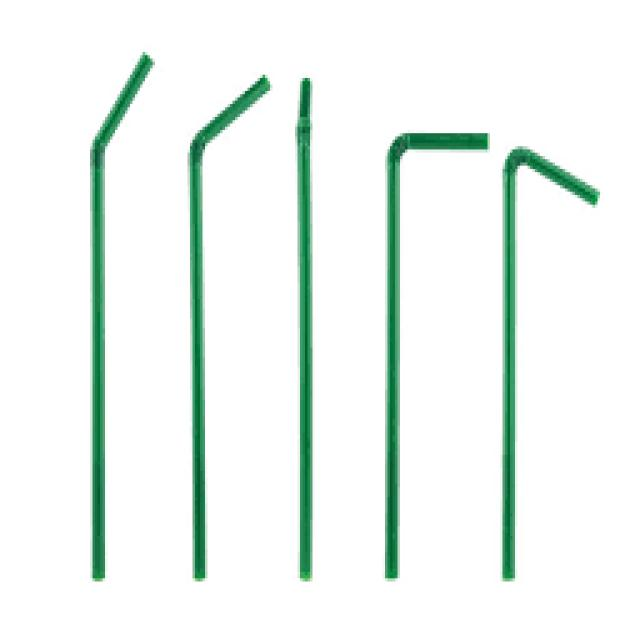straw: (385, 133, 487, 577), (502, 148, 599, 579), (190, 76, 268, 579), (91, 55, 148, 579), (298, 78, 310, 579)
